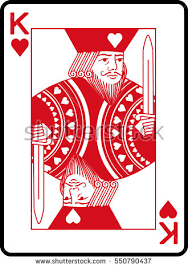king of hearts: (4, 4, 188, 253)
